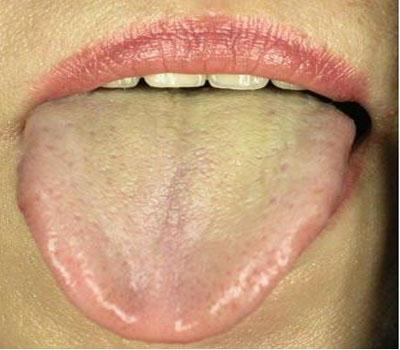huangtaishe: (15, 91, 356, 342)
